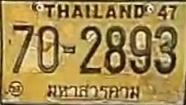0: (36, 25, 60, 72)
2: (79, 25, 101, 73)
3: (154, 25, 176, 73)
7: (12, 24, 34, 73)
8: (104, 25, 125, 73)
9: (129, 25, 151, 73)
MKM: (43, 78, 147, 105)
